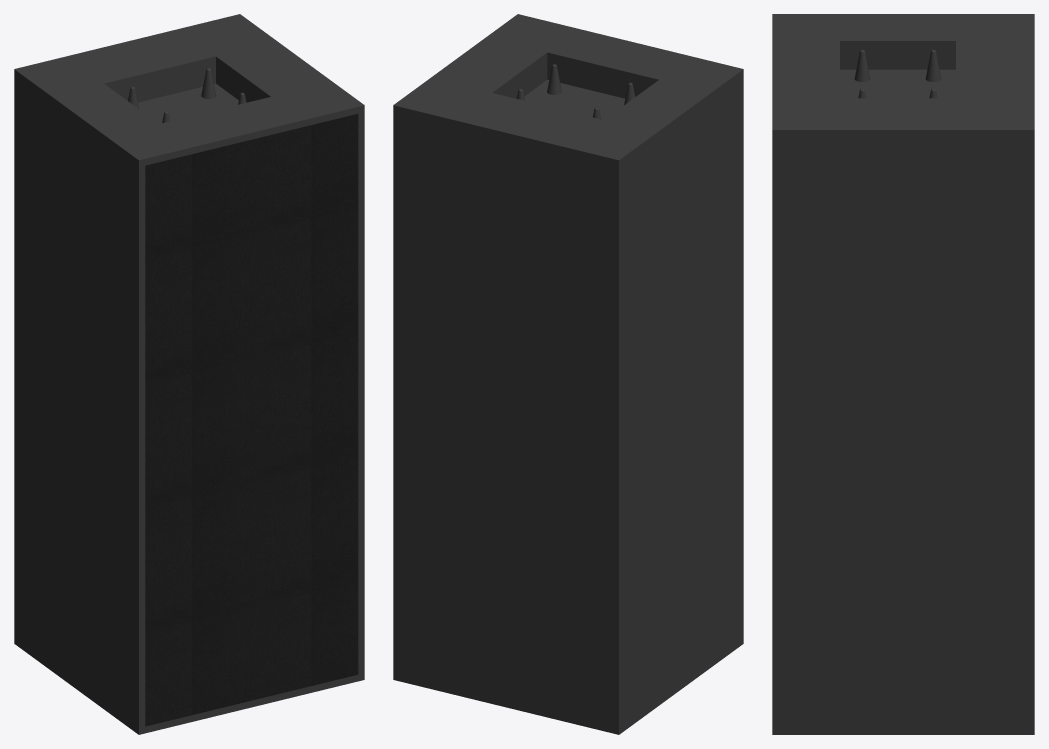
Rendered from banyan-pith-powered-subwoofer.glb.
The picture shows the model from 3 angles, left to right: view 1: azimuth 30°, elevation 25°; view 2: azimuth 150°, elevation 25°; view 3: azimuth 270°, elevation 25°; orthographic projection. The views are drawn at different scales.
Parts seen in each view (by area): view 1: Pith; view 2: Pith; view 3: Pith.
Boxes of the visible parts, left/top/right/bottom form: Pith: left=14, top=14, right=364, bottom=734; Pith: left=393, top=14, right=743, bottom=734; Pith: left=772, top=14, right=1034, bottom=734.
Size of the model in its own units: 0.348 by 0.8458 by 0.3327.
2 materials, 1 textured.
